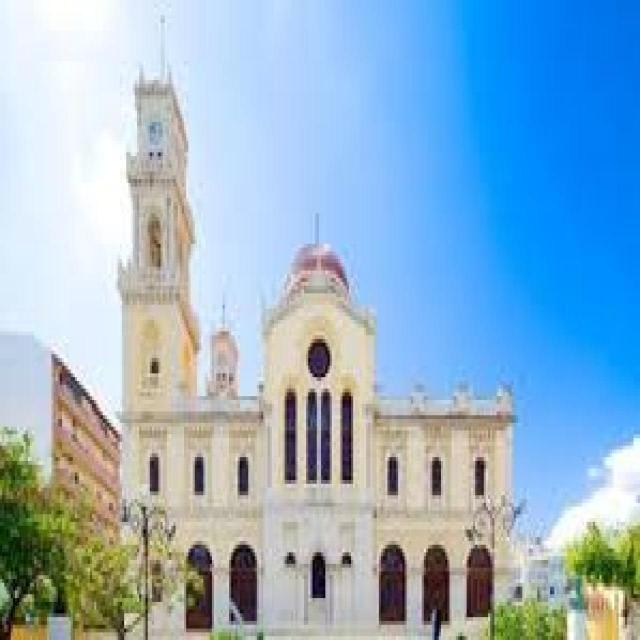Agios Minas: (116, 15, 522, 640)
